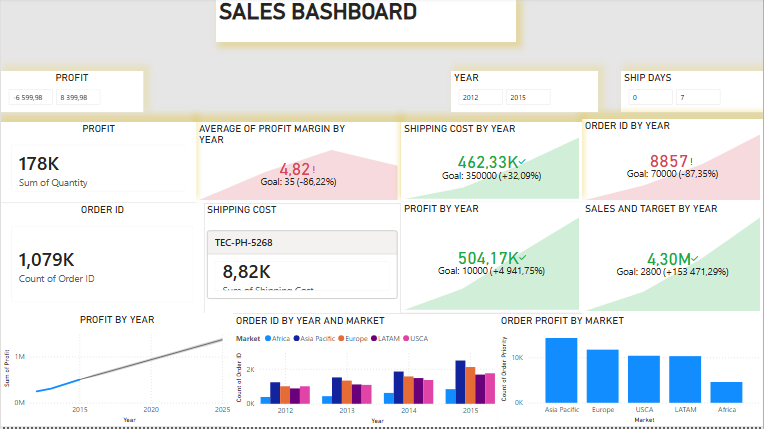

What the dashboard file says about the page in this screenshot:
{"tool":"powerbi","page":{"name":"Page 1","canvas":[1280,720],"ordinal":0},"visuals":[{"type":"cardVisual","title":"SHIPPING COST","fields":{"Data":["Sum(Sales.Shipping Cost)"],"Rows":["Sales.Product ID"]},"box":[341,344.4,330.9,186.5],"z":0},{"type":"columnChart","title":"ORDER PROFIT BY MARKET","fields":{"Category":["Sales.Market"],"Y":["CountNonNull(Sales.Order Priority)"]},"box":[834.9,530.8,445.1,188.1],"z":1000},{"type":"clusteredColumnChart","title":"ORDER ID BY YEAR AND MARKET","fields":{"Category":["Sales.Order Date.Variation.Date Hierarchy.Year"],"Series":["Sales.Market"],"Y":["Count(Sales.Order ID)"]},"box":[389.7,530.8,445.1,189.8],"z":2000},{"type":"cardVisual","title":"ORDER ID","fields":{"Data":["CountNonNull(Returns.Order ID)"]},"box":[0,344.4,341,184.8],"z":3000},{"type":"lineChart","title":"PROFIT BY YEAR","fields":{"Category":["Sales.Order Date.Variation.Date Hierarchy.Year"],"Y":["Sum(Sales.Profit)"]},"box":[0,529.1,389.7,189.8],"z":4000},{"type":"slicer","title":"SHIP DAYS","fields":{"Values":["Sales.Ship Days"]},"box":[1041.5,122.6,238.5,68.9],"z":5000},{"type":"kpi","title":"AVERAGE OF PROFIT MARGIN BY YEAR","fields":{"Goal":["People.Pofit Margin"],"Indicator":["Avg(Sales.Profit Margin)"],"TrendLine":["Sales.Order Date.Variation.Date Hierarchy.Year"]},"box":[327.8,207.8,343.9,136.1],"z":5001},{"type":"kpi","title":"ORDER ID BY YEAR","fields":{"Goal":["People.Order"],"Indicator":["Count(Sales.Order ID)"],"TrendLine":["Sales.Order Date.Variation.Date Hierarchy.Year"]},"box":[976,203.3,304,141.1],"z":5002},{"type":"kpi","title":" SHIPPING COST  BY YEAR","fields":{"Goal":["People.Shipping cost"],"Indicator":["Sum(Sales.Shipping Cost)"],"TrendLine":["Sales.Order Date.Variation.Date Hierarchy.Year"]},"box":[671.9,208.3,304,134.4],"z":5003},{"type":"kpi","title":"SALES AND  TARGET BY YEAR","fields":{"Goal":["People.Sales Target"],"Indicator":["Sum(Sales.Sales)"],"TrendLine":["Sales.Order Date.Variation.Date Hierarchy.Year"]},"box":[976,342.7,304,188.1],"z":5004},{"type":"kpi","title":"PROFIT BY YEAR","fields":{"Goal":["People.Profit"],"Indicator":["Sum(Sales.Profit)"],"TrendLine":["Sales.Order Date.Variation.Date Hierarchy.Year"]},"box":[671.9,342.7,304,186.5],"z":5005},{"type":"cardVisual","title":"PROFIT","fields":{"Data":["Sum(Sales.Quantity)"]},"box":[0,207.8,327.8,134.6],"z":5006},{"type":"textbox","title":"SALES BASHBOARD","box":[361.2,0,503.9,73.9],"z":5007},{"type":"slicer","title":"YEAR","fields":{"Values":["Sales.Order Date.Variation.Date Hierarchy.Year"]},"box":[755.9,122.6,246.9,68.9],"z":5008},{"type":"slicer","title":"PROFIT","fields":{"Values":["Sales.Profit"]},"box":[0,122.9,238.5,68.9],"z":5009}]}

Visuals, with their boxes in screenshot pixels (x1, y1, x2, y2), scaled from the page's 1280x720 canvas onto the 764x429 screenshot:
"SHIPPING COST" cardVisual: {"left": 204, "top": 205, "right": 401, "bottom": 316}
"ORDER PROFIT BY MARKET" columnChart: {"left": 498, "top": 316, "right": 763, "bottom": 428}
"ORDER ID BY YEAR AND MARKET" clusteredColumnChart: {"left": 233, "top": 316, "right": 498, "bottom": 428}
"ORDER ID" cardVisual: {"left": 0, "top": 205, "right": 204, "bottom": 315}
"PROFIT BY YEAR" lineChart: {"left": 0, "top": 315, "right": 233, "bottom": 428}
"SHIP DAYS" slicer: {"left": 622, "top": 73, "right": 763, "bottom": 114}
"AVERAGE OF PROFIT MARGIN BY YEAR" kpi: {"left": 196, "top": 124, "right": 401, "bottom": 205}
"ORDER ID BY YEAR" kpi: {"left": 583, "top": 121, "right": 763, "bottom": 205}
" SHIPPING COST  BY YEAR" kpi: {"left": 401, "top": 124, "right": 582, "bottom": 204}
"SALES AND  TARGET BY YEAR" kpi: {"left": 583, "top": 204, "right": 763, "bottom": 316}
"PROFIT BY YEAR" kpi: {"left": 401, "top": 204, "right": 582, "bottom": 315}
"PROFIT" cardVisual: {"left": 0, "top": 124, "right": 196, "bottom": 204}
"SALES BASHBOARD" textbox: {"left": 216, "top": 0, "right": 516, "bottom": 44}
"YEAR" slicer: {"left": 451, "top": 73, "right": 599, "bottom": 114}
"PROFIT" slicer: {"left": 0, "top": 73, "right": 142, "bottom": 114}
